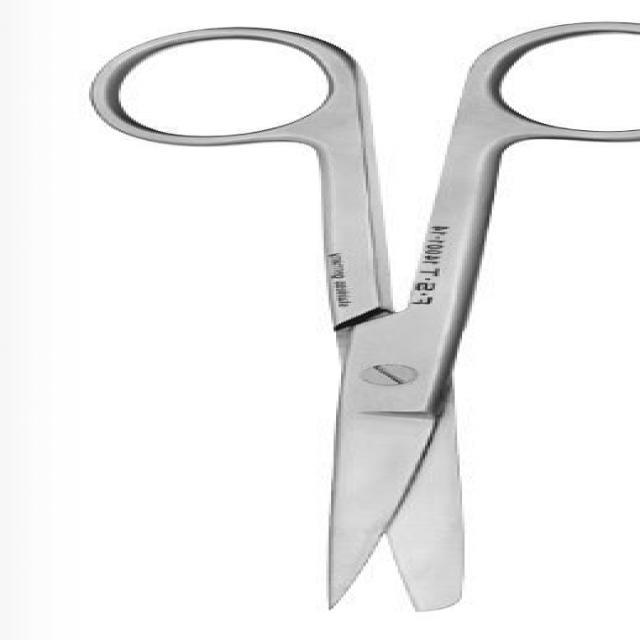Mayo_metz: (79, 18, 640, 617)
